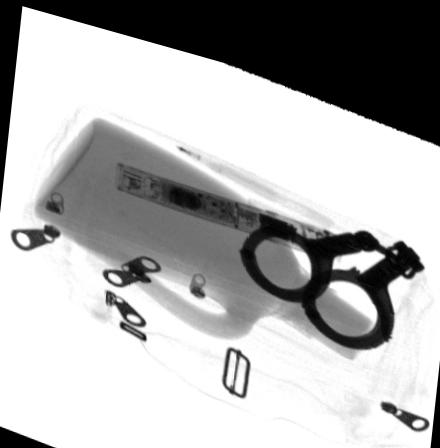Baton: (114, 156, 342, 245)
HandCuffs: (238, 199, 427, 334)
